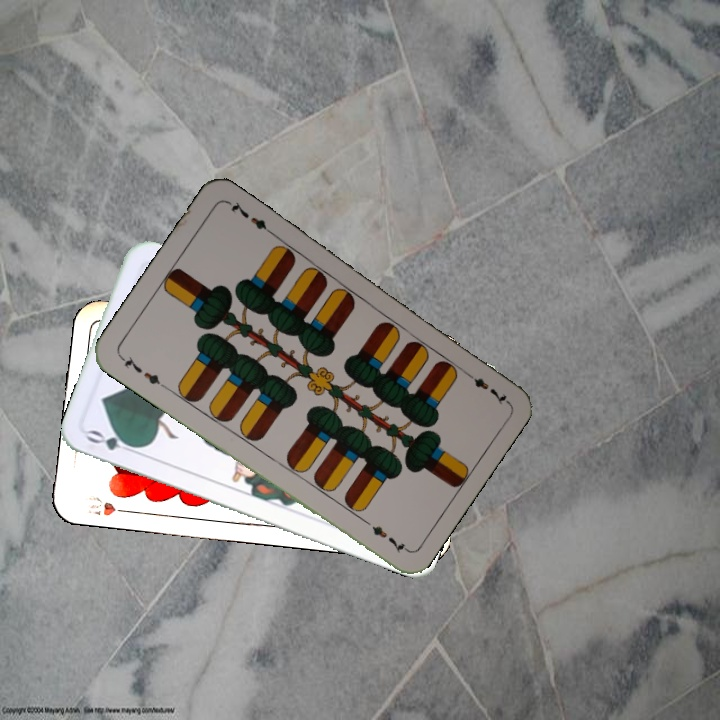E7: (116, 351, 168, 391), (458, 367, 510, 407)
GO: (82, 425, 142, 457)
H10: (85, 493, 135, 519)
